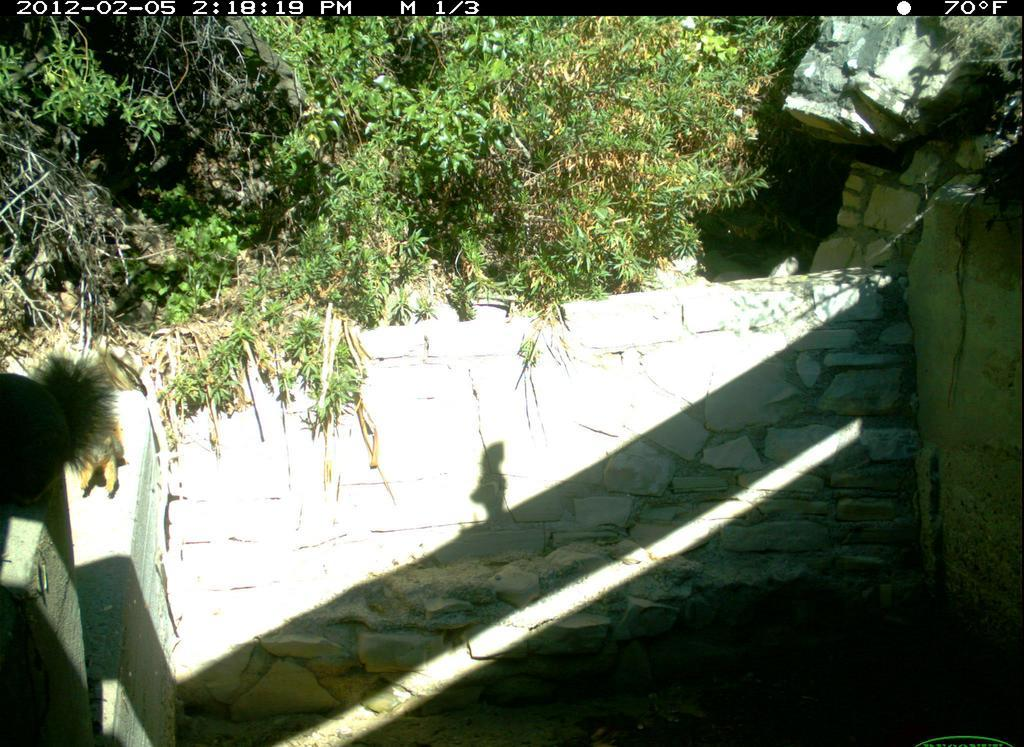squirrel: (2, 342, 143, 527)
